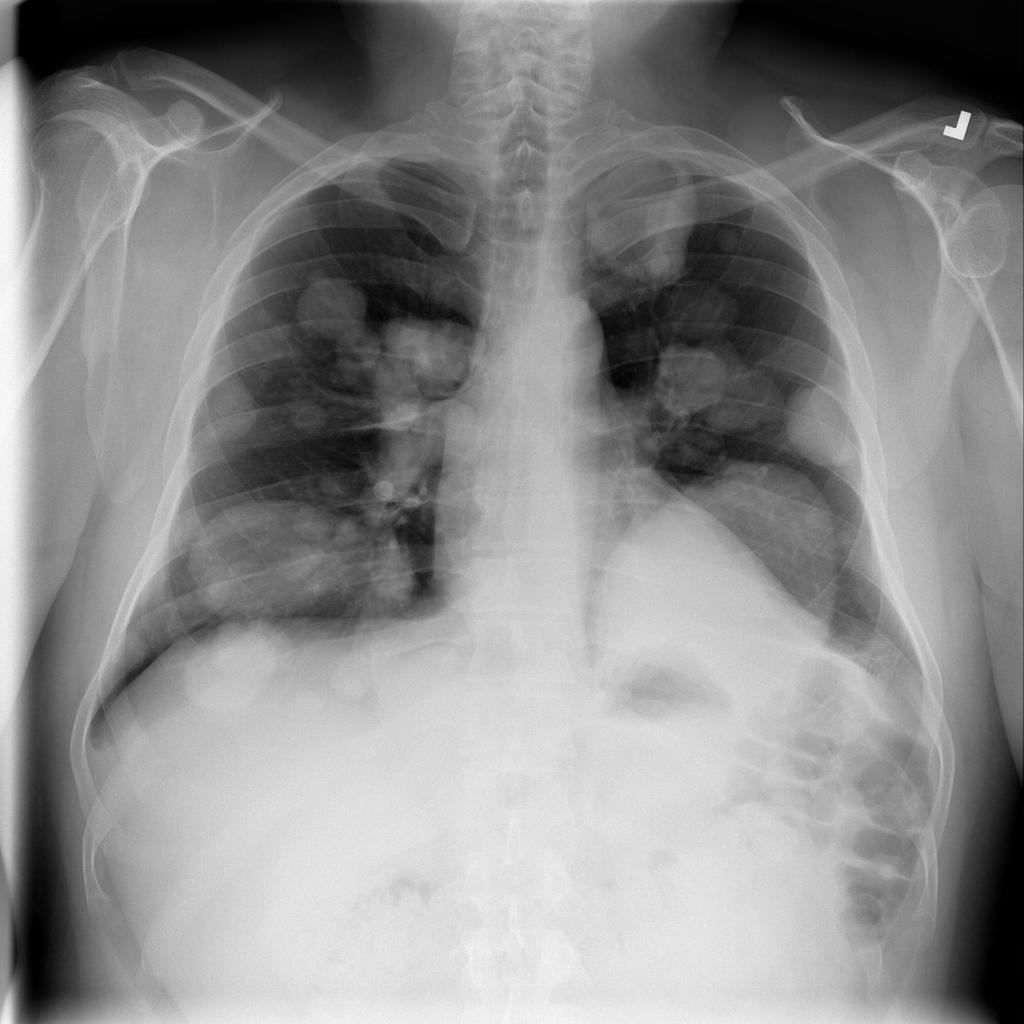nodule: (562, 457, 872, 721), (170, 491, 372, 628), (580, 156, 712, 289), (637, 332, 777, 438), (170, 617, 298, 718), (369, 301, 485, 409), (281, 264, 396, 363), (774, 366, 877, 475), (651, 280, 753, 343), (191, 374, 270, 453), (348, 546, 430, 613), (315, 647, 391, 712), (280, 394, 335, 441), (703, 215, 753, 266), (306, 463, 363, 506), (240, 296, 292, 341)
